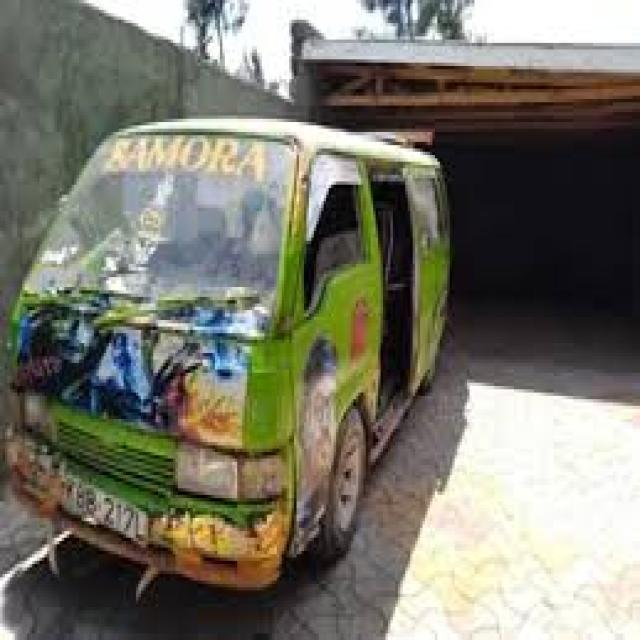matatu: (11, 3, 514, 614), (0, 613, 20, 620)
